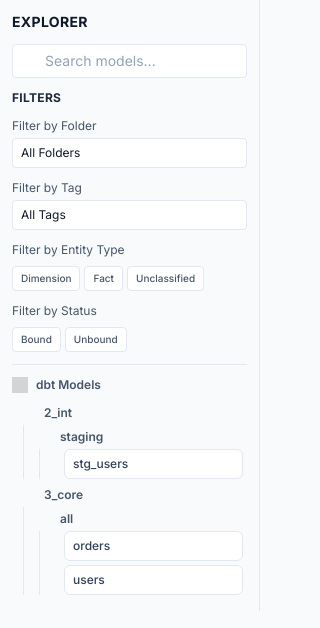
Sidebar — filtering through the UI › shows only models carrying the tag picked from the tag dropdown
Select "pii" in the dropdown labelled "Filter by Tag" at (130, 215), box [12, 200, 247, 230]
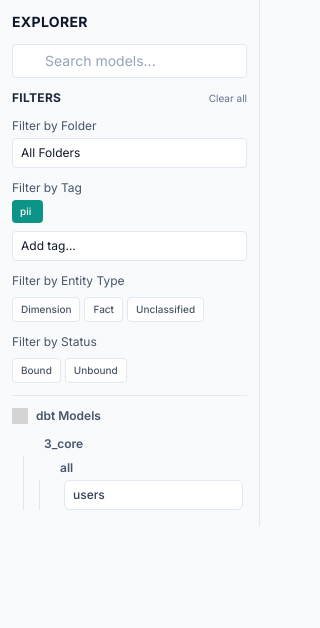
Check: the text "users" is shown, box [73, 487, 105, 502]
Check: the text "orders" is gone
Check: the text "stg_users" is gone
